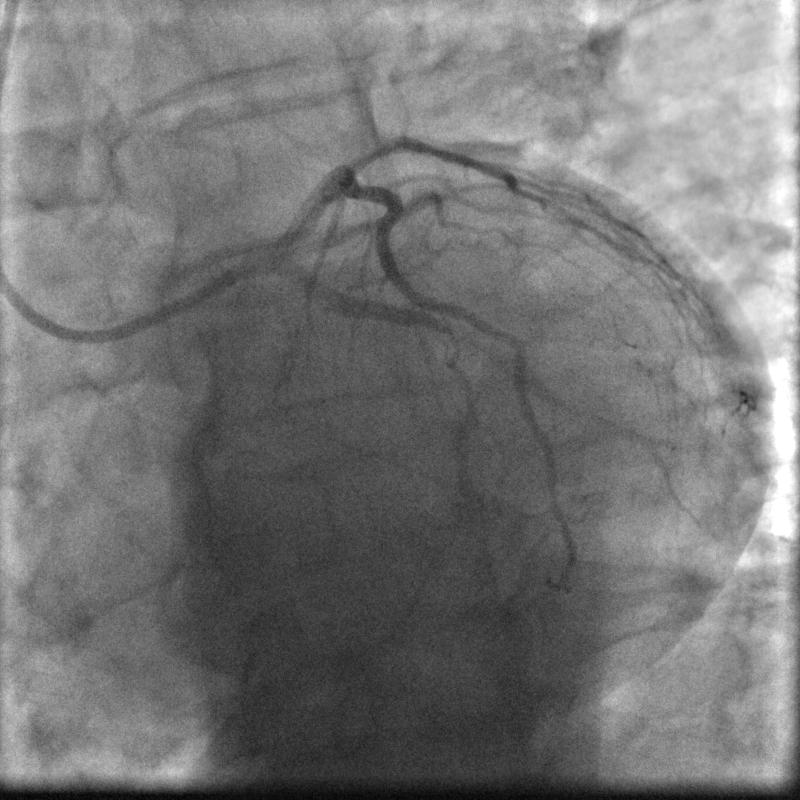Stenosis: (343, 134, 398, 171)
